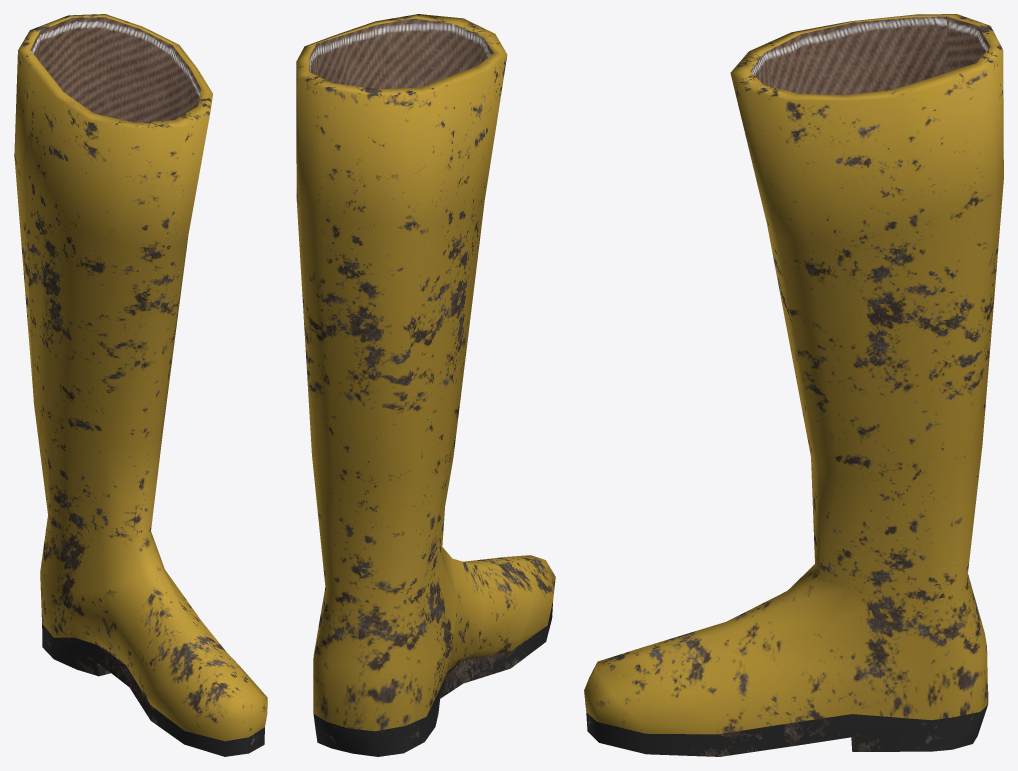
The model's file is farmBoot_01_LOD1.FBX.
3 views of the same model, side by side, from view 1: azimuth 30°, elevation 25°; view 2: azimuth 150°, elevation 25°; view 3: azimuth 270°, elevation 25° (orthographic). The views are drawn at different scales.
Parts seen in each view (by area): view 1: farmBoot_01_LOD1; view 2: farmBoot_01_LOD1; view 3: farmBoot_01_LOD1.
Boxes of the visible parts, x1=… form: farmBoot_01_LOD1: x1=14, y1=14, x2=267, y2=756; farmBoot_01_LOD1: x1=296, y1=14, x2=555, y2=756; farmBoot_01_LOD1: x1=584, y1=14, x2=1003, y2=756.
Size of the model in its own units: 13.86 by 55.57 by 30.81.
